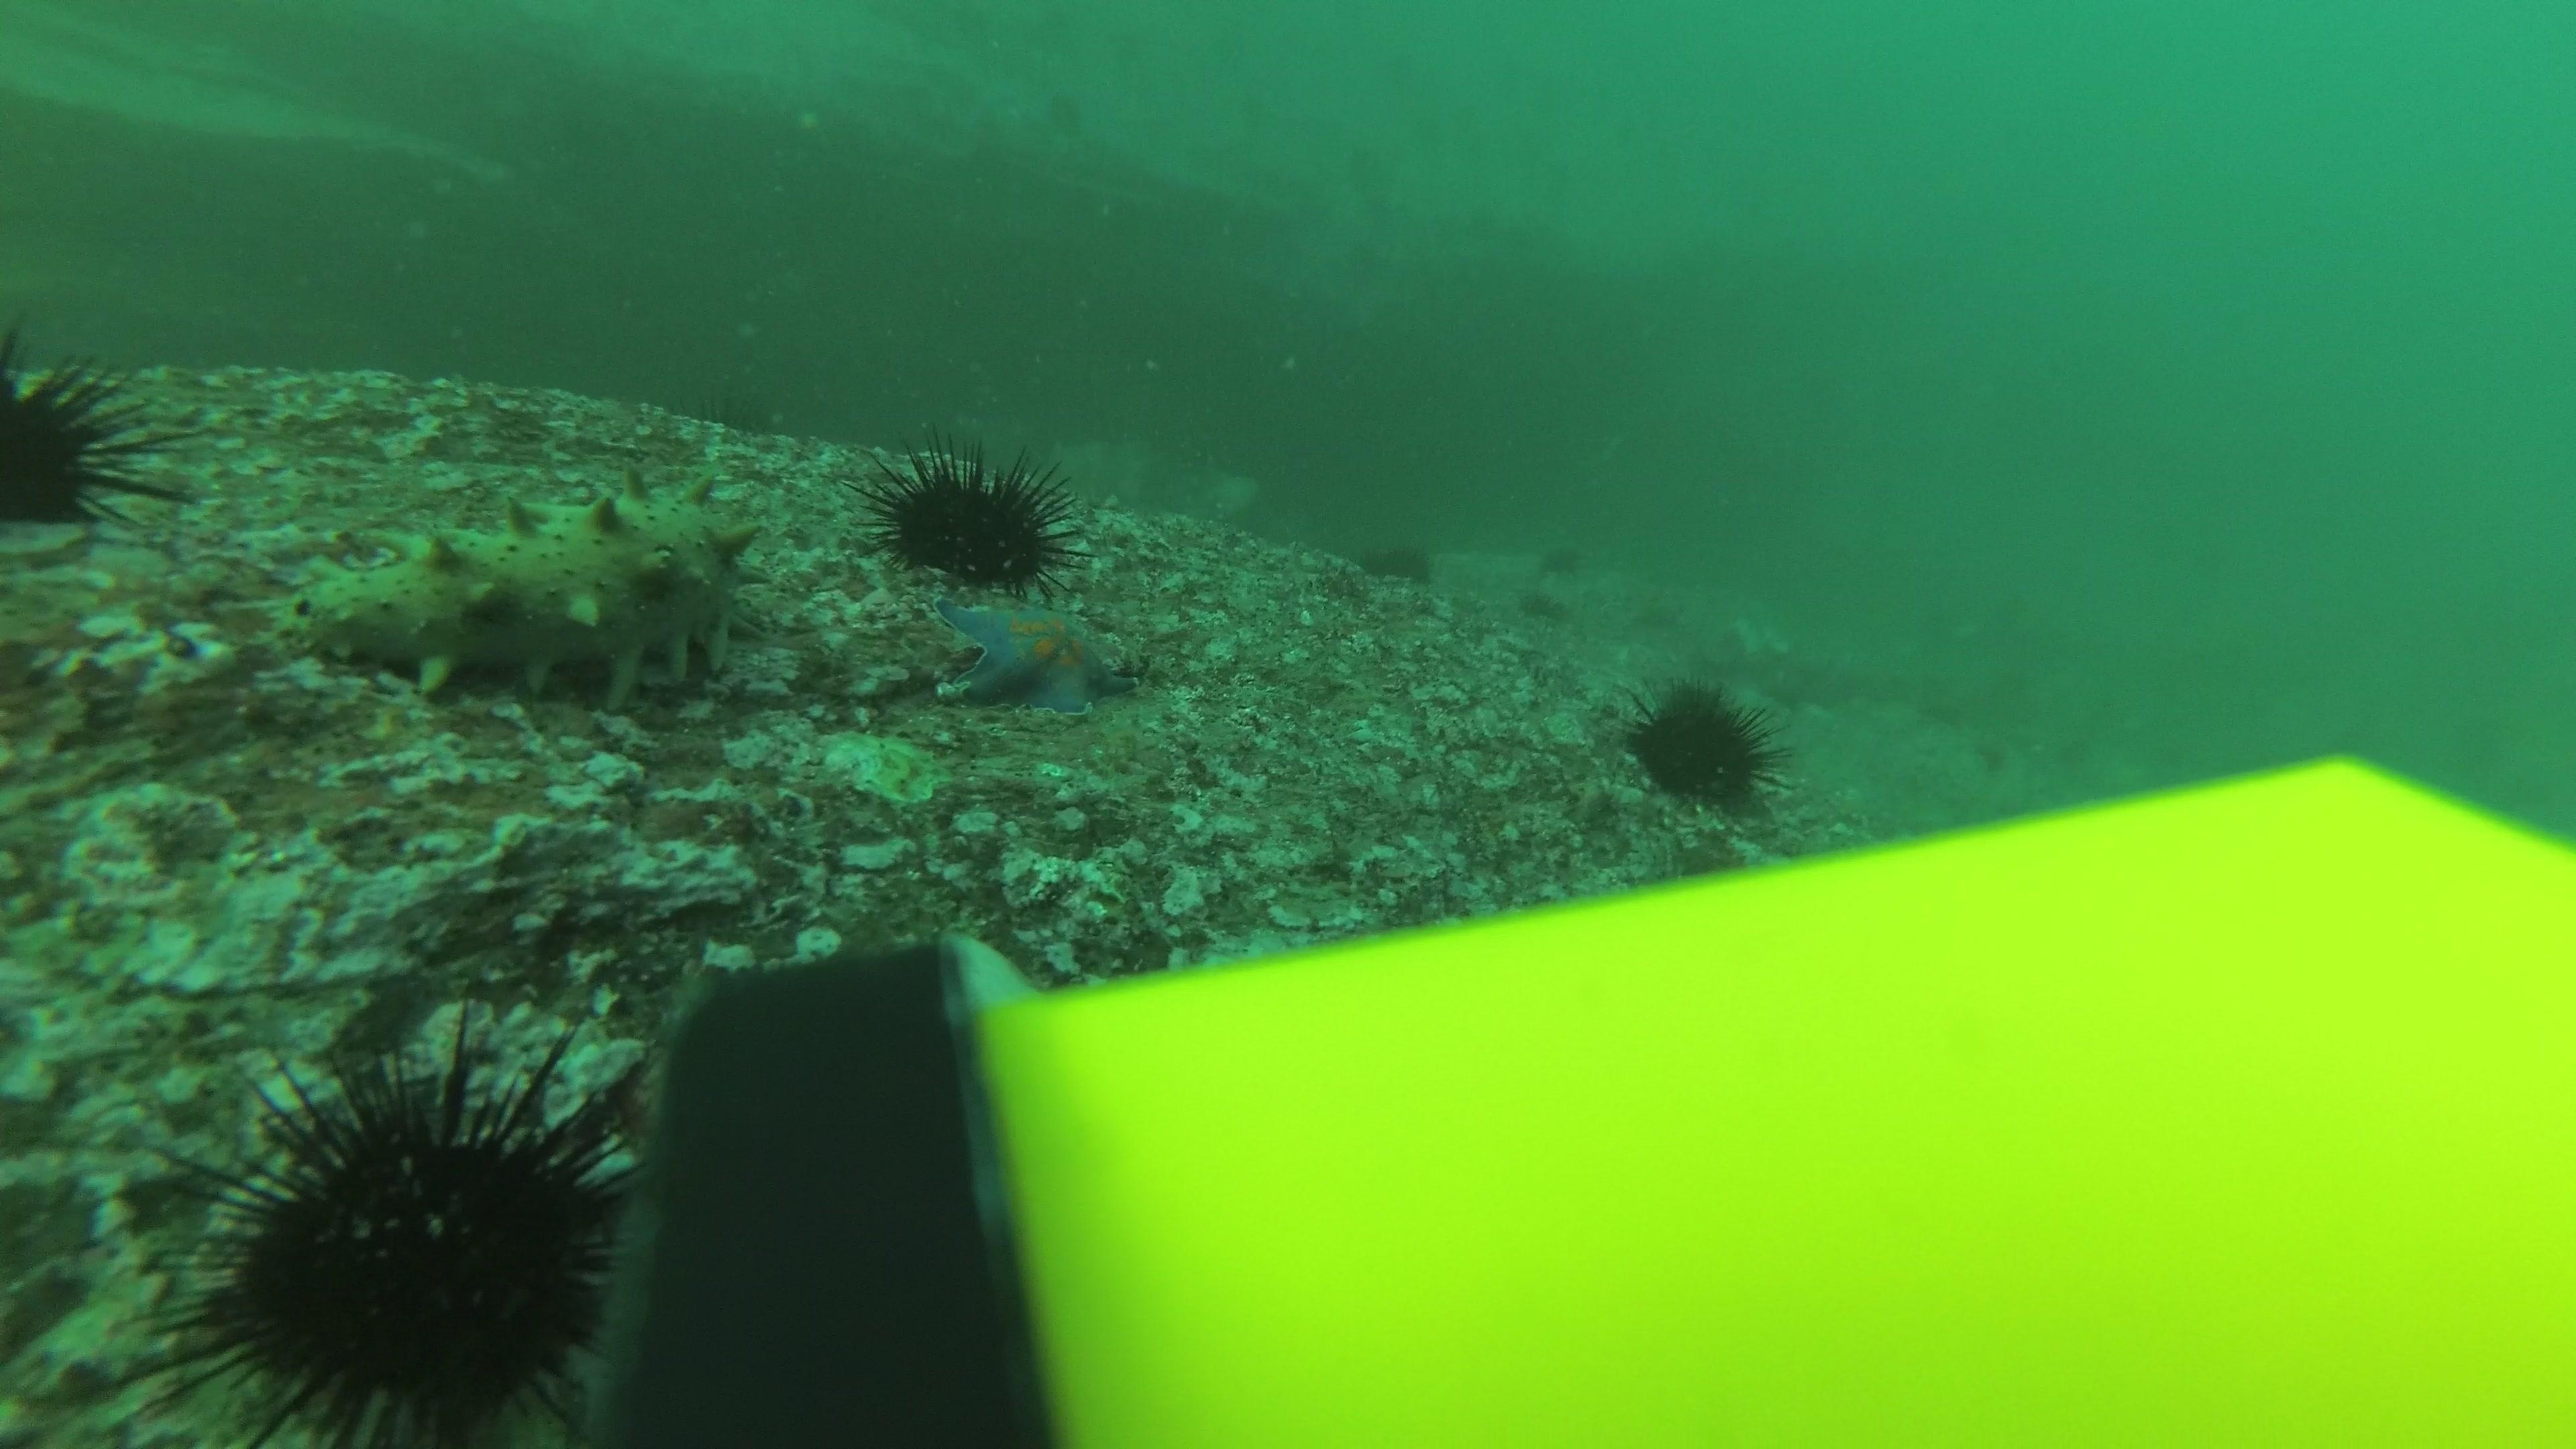echinus: (156, 1017, 655, 1440), (2, 320, 175, 541), (865, 437, 1081, 589), (1622, 676, 1785, 814), (1355, 533, 1437, 587), (1506, 589, 1566, 626)
holothurian: (292, 483, 766, 709)
starfish: (931, 584, 1141, 722)
